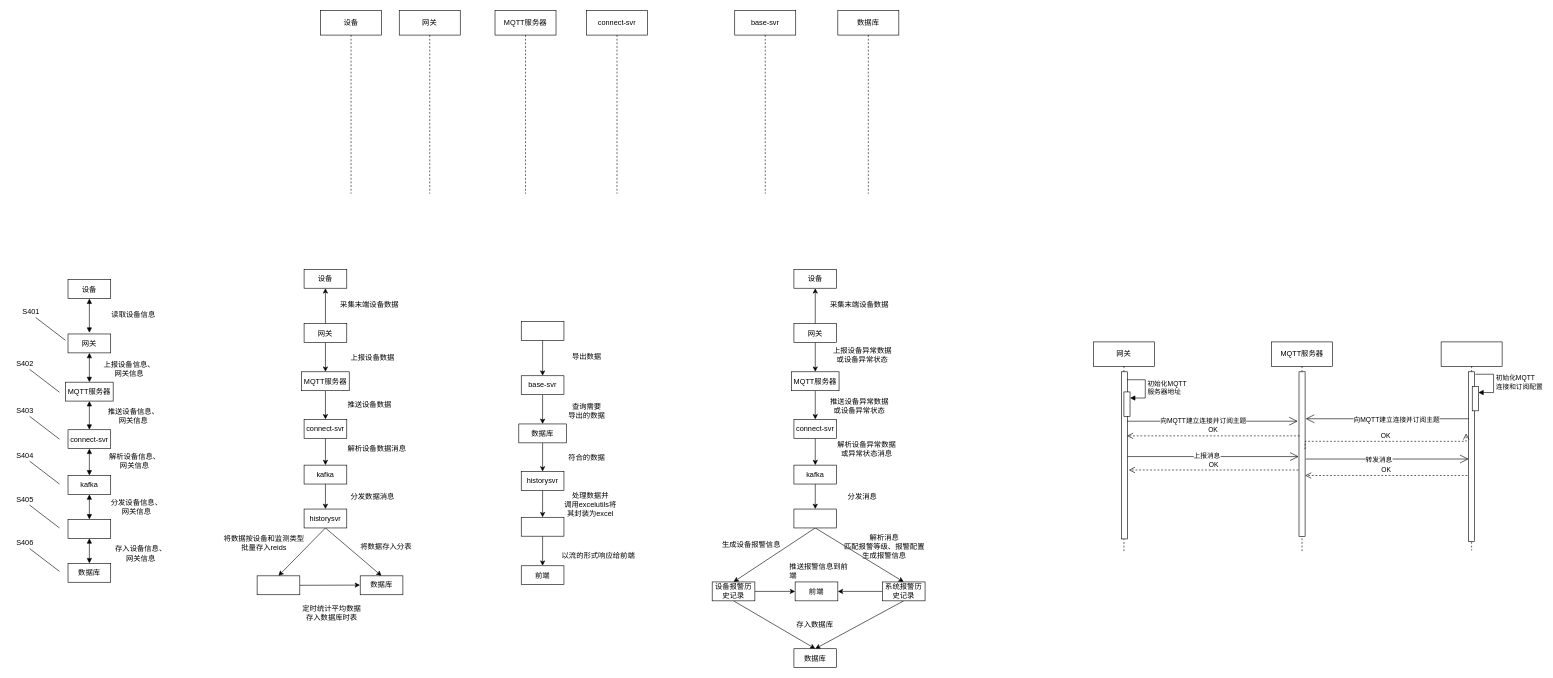
This 1553x678 diagram has some shape labels left out. The box of each missing label's shape, as (x1, y1, x2, y2) in pixels:
alarmsvr: (793, 508, 837, 528)
basesvr: (67, 519, 111, 538)
excelutils: (521, 517, 564, 536)
redis: (257, 575, 300, 595)
前端请求: (521, 321, 564, 340)
平台服务: (1441, 341, 1502, 551)
